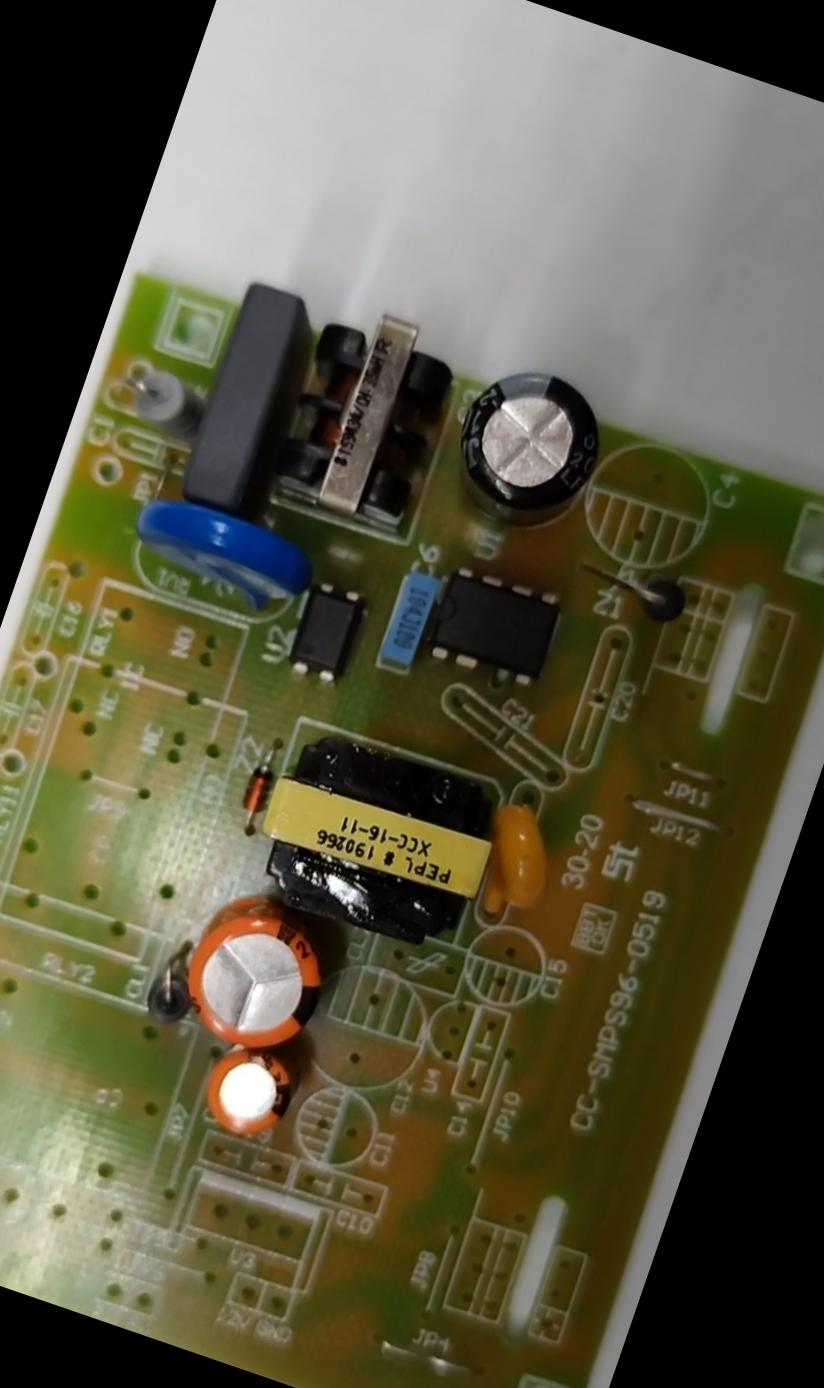Cap1: (170, 886, 339, 1060)
Cap2: (195, 1042, 299, 1142)
Cap3: (434, 353, 616, 551)
MOSFET: (422, 557, 564, 689)
Mov: (123, 482, 316, 616)
Resistor: (112, 356, 212, 447)
Transformer: (236, 718, 508, 956), (266, 292, 467, 530)
